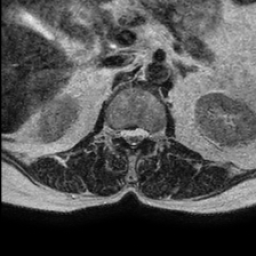CCS_normal: (129, 120, 138, 158)
LFS_stenosis: (147, 120, 157, 149)
LLS_normal: (138, 120, 147, 151)
RFS_normal: (112, 120, 121, 146)
RLS_normal: (121, 122, 129, 149)
